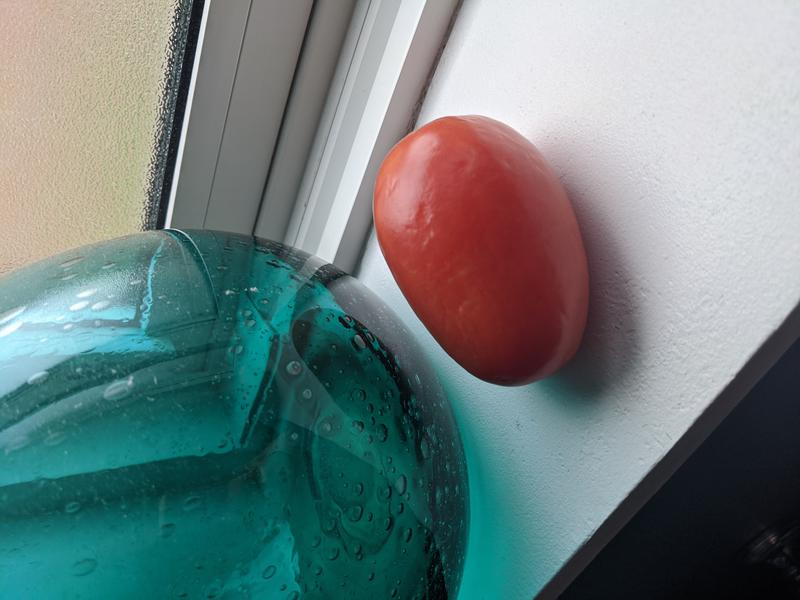tomato: (371, 115, 591, 388)
